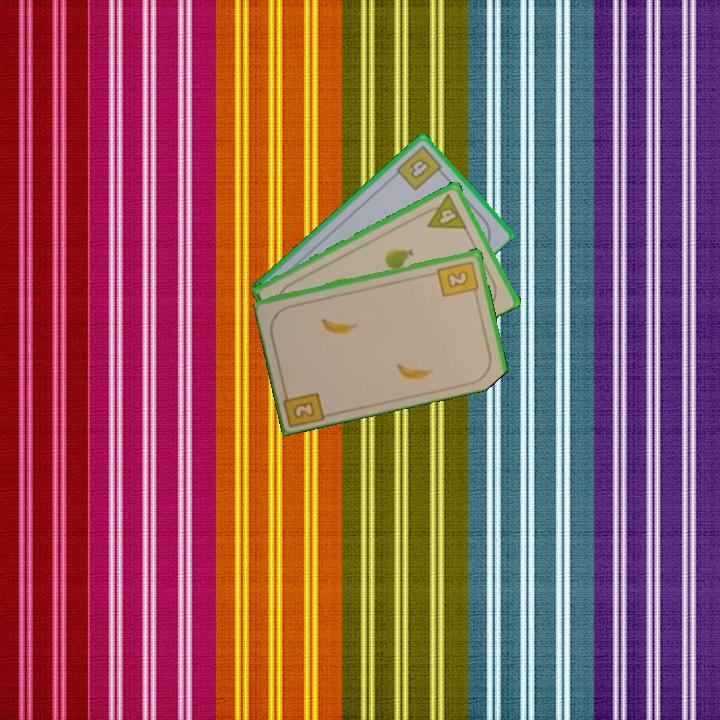2b: (280, 384, 329, 428), (434, 257, 481, 299)
4b: (392, 142, 448, 193)
4p: (419, 190, 469, 232)
